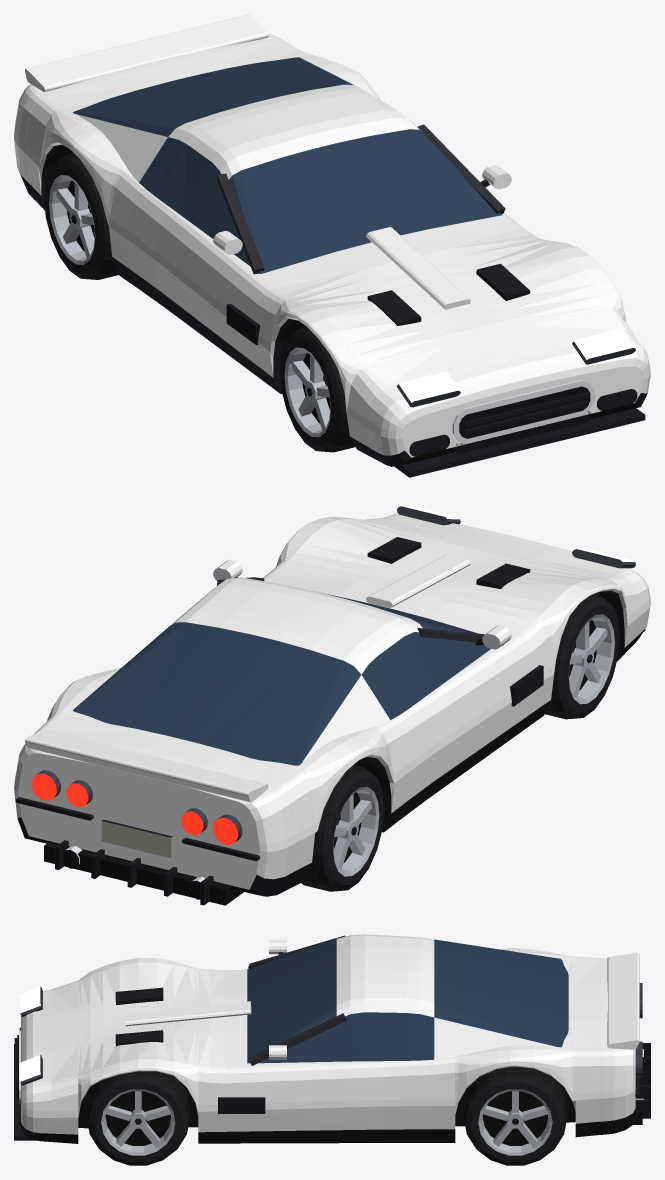
3 renders of one model, top to bottom at view 1: azimuth 30°, elevation 25°; view 2: azimuth 150°, elevation 25°; view 3: azimuth 270°, elevation 25°, orthographic. The views are drawn at different scales.
Parts seen in each view (by area): view 1: paint, glass, stripe_a, trim, tire_side (×2), trim_grille, stripe_b, rim (×2), part_18 (×2), trim_soft, headlight, tire (×2) (+3 smaller); view 2: paint, glass, stripe_a, trim, tire_side (×2), trim_under, rim (×2), part_18 (×2), stripe_b, tire (×2), taillight, chrome_housing (+2 smaller); view 3: paint, glass, stripe_a, trim, tire_side (×2), trim_under (×3), stripe_b, tire (×2), part_18 (×2), rim (×2), trim_soft, headlight (+1 smaller).
Boxes of the visible parts, x1,y1,x2,y2 form: paint: [14, 14, 650, 457]; glass: [73, 57, 502, 273]; stripe_a: [112, 51, 568, 399]; trim: [18, 144, 647, 477]; tire_side (×2): [44, 159, 341, 451]; trim_grille: [454, 386, 590, 453]; stripe_b: [14, 127, 650, 438]; rim (×2): [49, 175, 330, 437]; part_18 (×2): [56, 182, 329, 430]; trim_soft: [216, 124, 505, 274]; headlight: [399, 329, 634, 402]; tire (×2): [60, 153, 355, 452]; paint: [14, 513, 650, 889]; glass: [73, 592, 490, 765]; stripe_a: [112, 526, 562, 768]; trim: [15, 537, 645, 905]; tire_side (×2): [322, 598, 619, 890]; trim_under: [25, 591, 617, 905]; rim (×2): [333, 614, 614, 876]; part_18 (×2): [334, 622, 607, 869]; stripe_b: [14, 586, 650, 851]; tire (×2): [301, 593, 603, 891]; taillight: [31, 773, 237, 844]; chrome_housing: [35, 506, 635, 841]; paint: [21, 934, 639, 1134]; glass: [247, 939, 568, 1063]; stripe_a: [21, 947, 607, 1061]; trim: [14, 952, 650, 1143]; tire_side (×2): [88, 1077, 564, 1165]; trim_under (×3): [78, 1041, 642, 1145]; stripe_b: [21, 1062, 635, 1117]; tire (×2): [86, 1066, 567, 1149]; part_18 (×2): [106, 1091, 547, 1146]; rim (×2): [101, 1089, 552, 1155]; trim_soft: [248, 935, 346, 1065]; headlight: [19, 987, 40, 1081].
Bounding box in the file's own units: 1.93 × 1.18 × 4.56.
